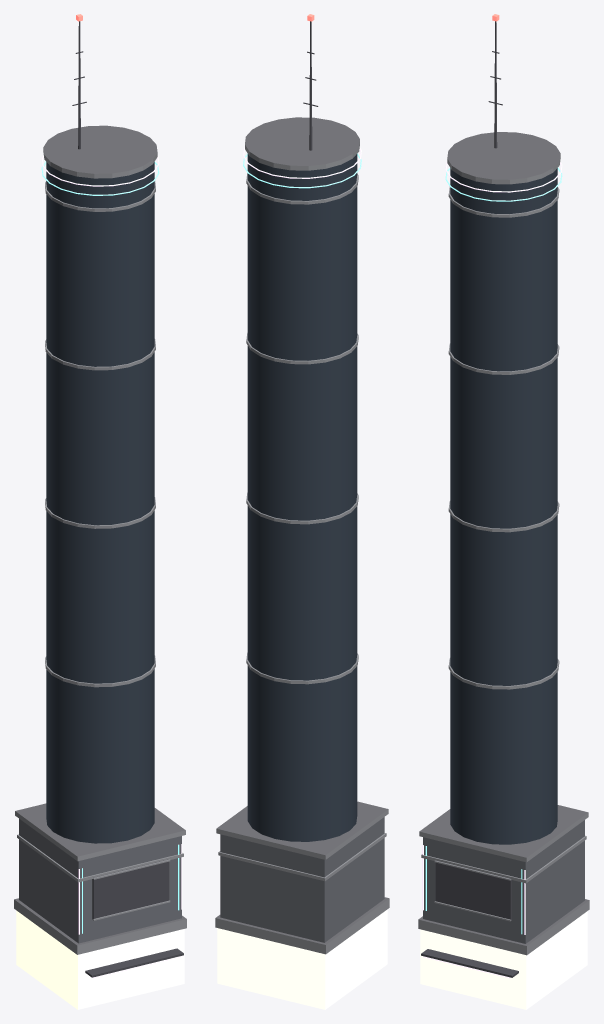
The model's file is s12_round.glb.
3 views of the same model, side by side, from view 1: azimuth 30°, elevation 25°; view 2: azimuth 150°, elevation 25°; view 3: azimuth 330°, elevation 25° (orthographic).
Visible parts, largest first — view 1: s12_round; view 2: s12_round; view 3: s12_round.
Part boxes in pixels (x1,y1,x2,y2): s12_round: (14, 14, 186, 1009); s12_round: (215, 14, 389, 1009); s12_round: (418, 14, 589, 1009).
Size of the model in its own units: 12.3 by 103 by 13.49.
